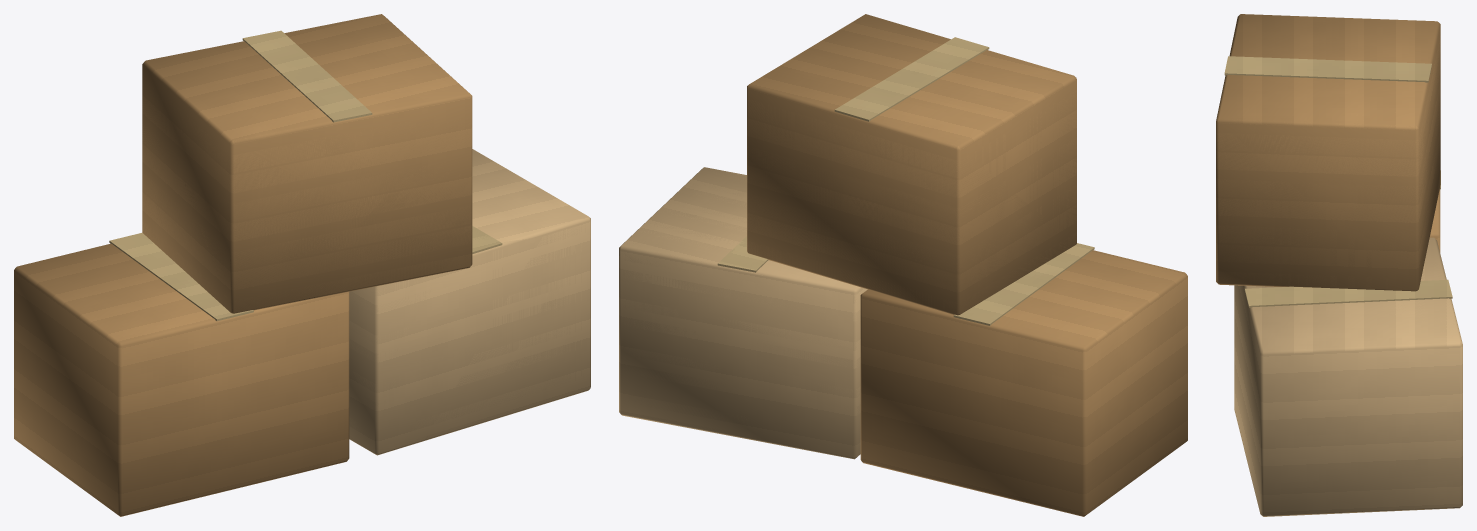
Rendered from caixas_papelao_pilha.glb.
The picture shows the model from 3 angles, left to right: view 1: azimuth 30°, elevation 25°; view 2: azimuth 150°, elevation 25°; view 3: azimuth 270°, elevation 25°; orthographic projection. The views are drawn at different scales.
Parts seen in each view (by area): view 1: Inteiro, Peca_01, Peca_02; view 2: Inteiro, Peca_01, Peca_02; view 3: Inteiro, Peca_02, Peca_01.
Boxes of the visible parts, left/top/right/bottom form: Inteiro: left=14, top=14, right=590, bottom=516; Peca_01: left=349, top=220, right=585, bottom=455; Peca_02: left=142, top=39, right=472, bottom=313; Inteiro: left=619, top=14, right=1187, bottom=516; Peca_01: left=621, top=169, right=860, bottom=458; Peca_02: left=747, top=61, right=1076, bottom=315; Inteiro: left=1216, top=14, right=1462, bottom=516; Peca_02: left=1216, top=25, right=1440, bottom=290; Peca_01: left=1401, top=237, right=1460, bottom=336.
Bounding box in the file's own units: 1.05 × 0.723 × 0.4849.
Materials: 1 (1 with a texture image).
